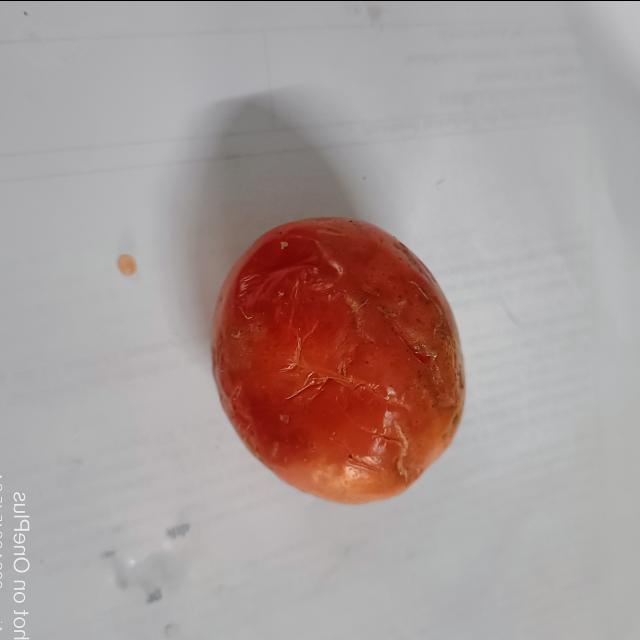Botrytis: (393, 292, 462, 399), (300, 280, 366, 378)
